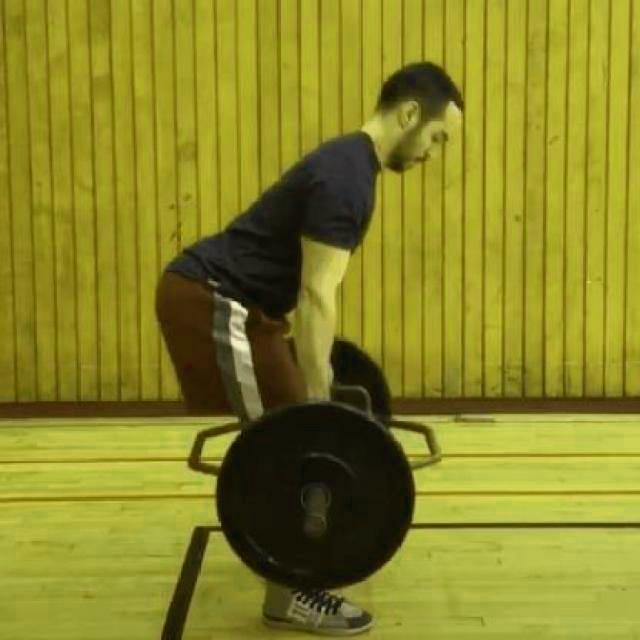barbell: (216, 395, 419, 595)
